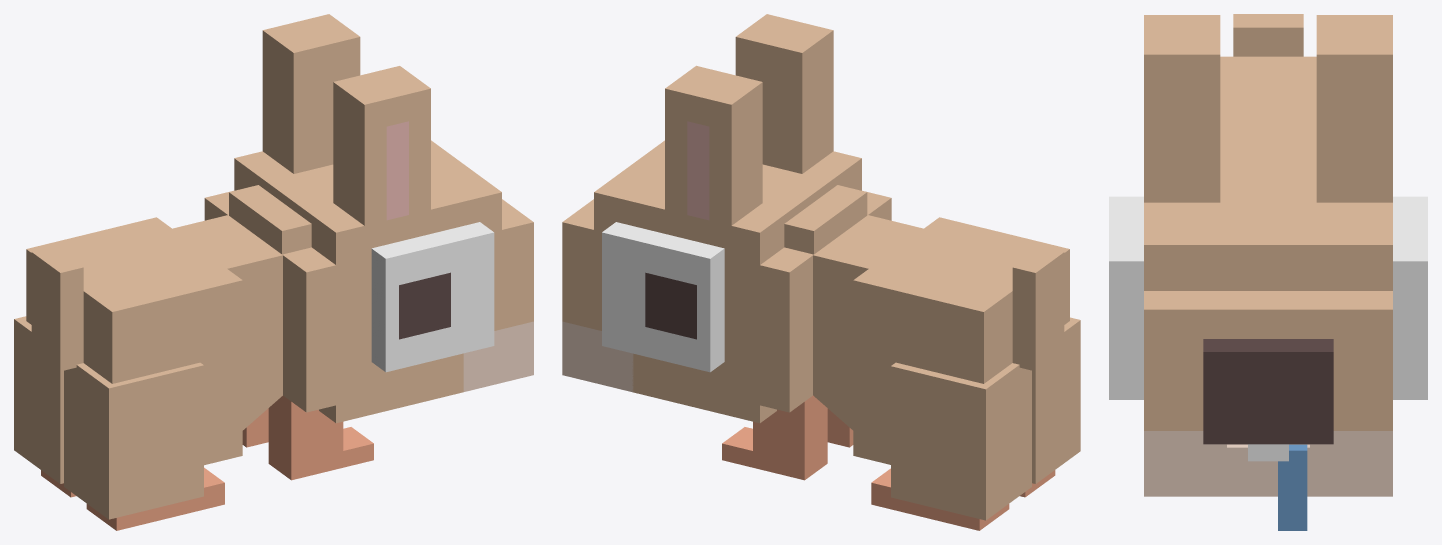
Rendered from Rabbit.fbx.
3 renders of one model, left to right at view 1: azimuth 30°, elevation 25°; view 2: azimuth 150°, elevation 25°; view 3: azimuth 270°, elevation 25°, orthographic. The views are drawn at different scales.
Visible parts, largest first — view 1: Box001; view 2: Box001; view 3: Box001.
Boxes of the visible parts, bbox=[...] form: Box001: bbox=[14, 14, 533, 530]; Box001: bbox=[562, 14, 1080, 530]; Box001: bbox=[1109, 14, 1427, 530].
Bounding box in the file's own units: 123 × 97 × 60.63.
1 material, 1 textured.
